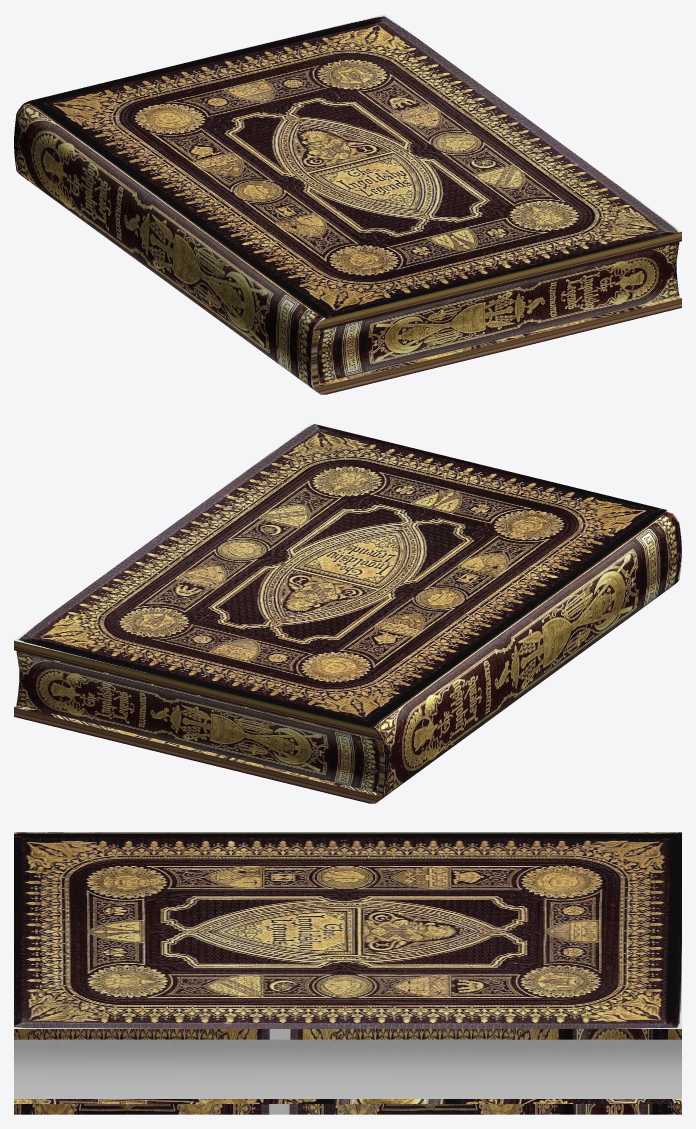
The picture shows the model from 3 angles, top to bottom: view 1: azimuth 30°, elevation 25°; view 2: azimuth 150°, elevation 25°; view 3: azimuth 270°, elevation 25°; orthographic projection. The views are drawn at different scales.
Parts seen in each view (by area): view 1: 종이u, Object001; view 2: 종이u, Object001; view 3: 종이u, Object001.
Boxes of the visible parts, left/top/right/bottom form: 종이u: left=14, top=14, right=681, bottom=394; Object001: left=316, top=242, right=679, bottom=383; 종이u: left=14, top=423, right=681, bottom=803; Object001: left=16, top=651, right=379, bottom=792; 종이u: left=14, top=832, right=681, bottom=1114; Object001: left=14, top=1039, right=681, bottom=1098.
Bounding box in the file's own units: 13.04 × 2.56 × 18.1.
